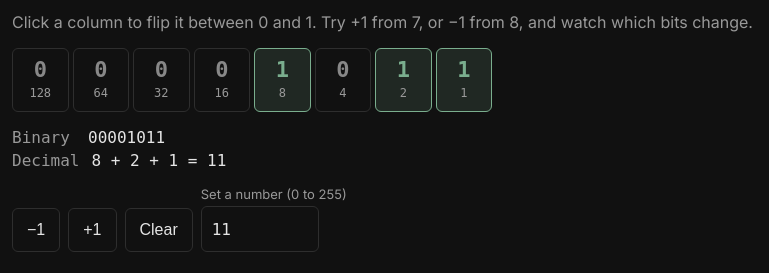
Test: BitToggle › disables −1 at 0 and +1 at 255
This screenshot has width=769, height=273.
Click the button "Clear". click: click(159, 230)
box: [124,208,193,252]
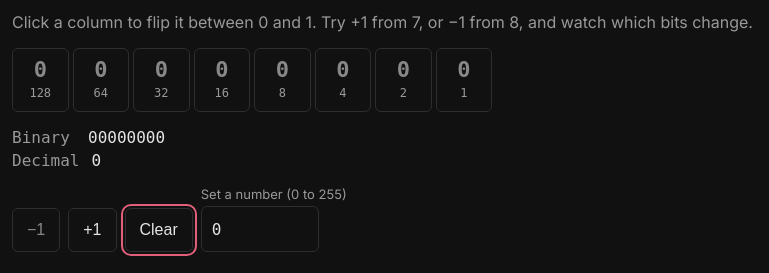
Check: the button "−1" is disabled, box [12,208,60,252]
Replace the text in the number field labelled "Set a number (0 to 255)" with "255". click: (260, 229)
box: [201,206,319,252]
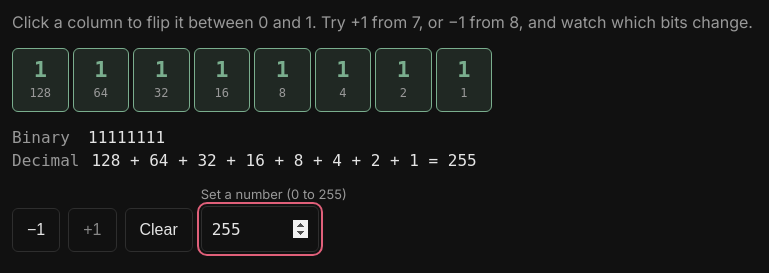
Check: the button "+1" is disabled, box [68,208,117,252]
